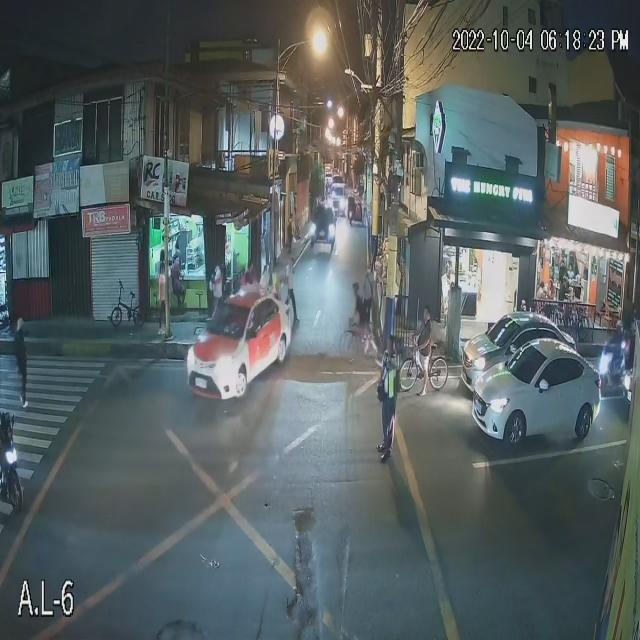motorcycle: (1, 412, 27, 511), (598, 351, 633, 383)
